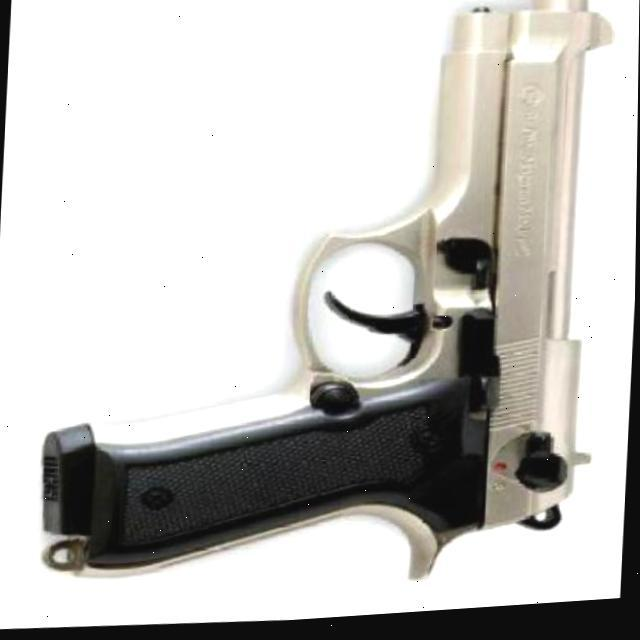gun: (34, 0, 622, 613)
